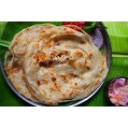parota: (31, 26, 102, 102), (12, 23, 62, 103)
